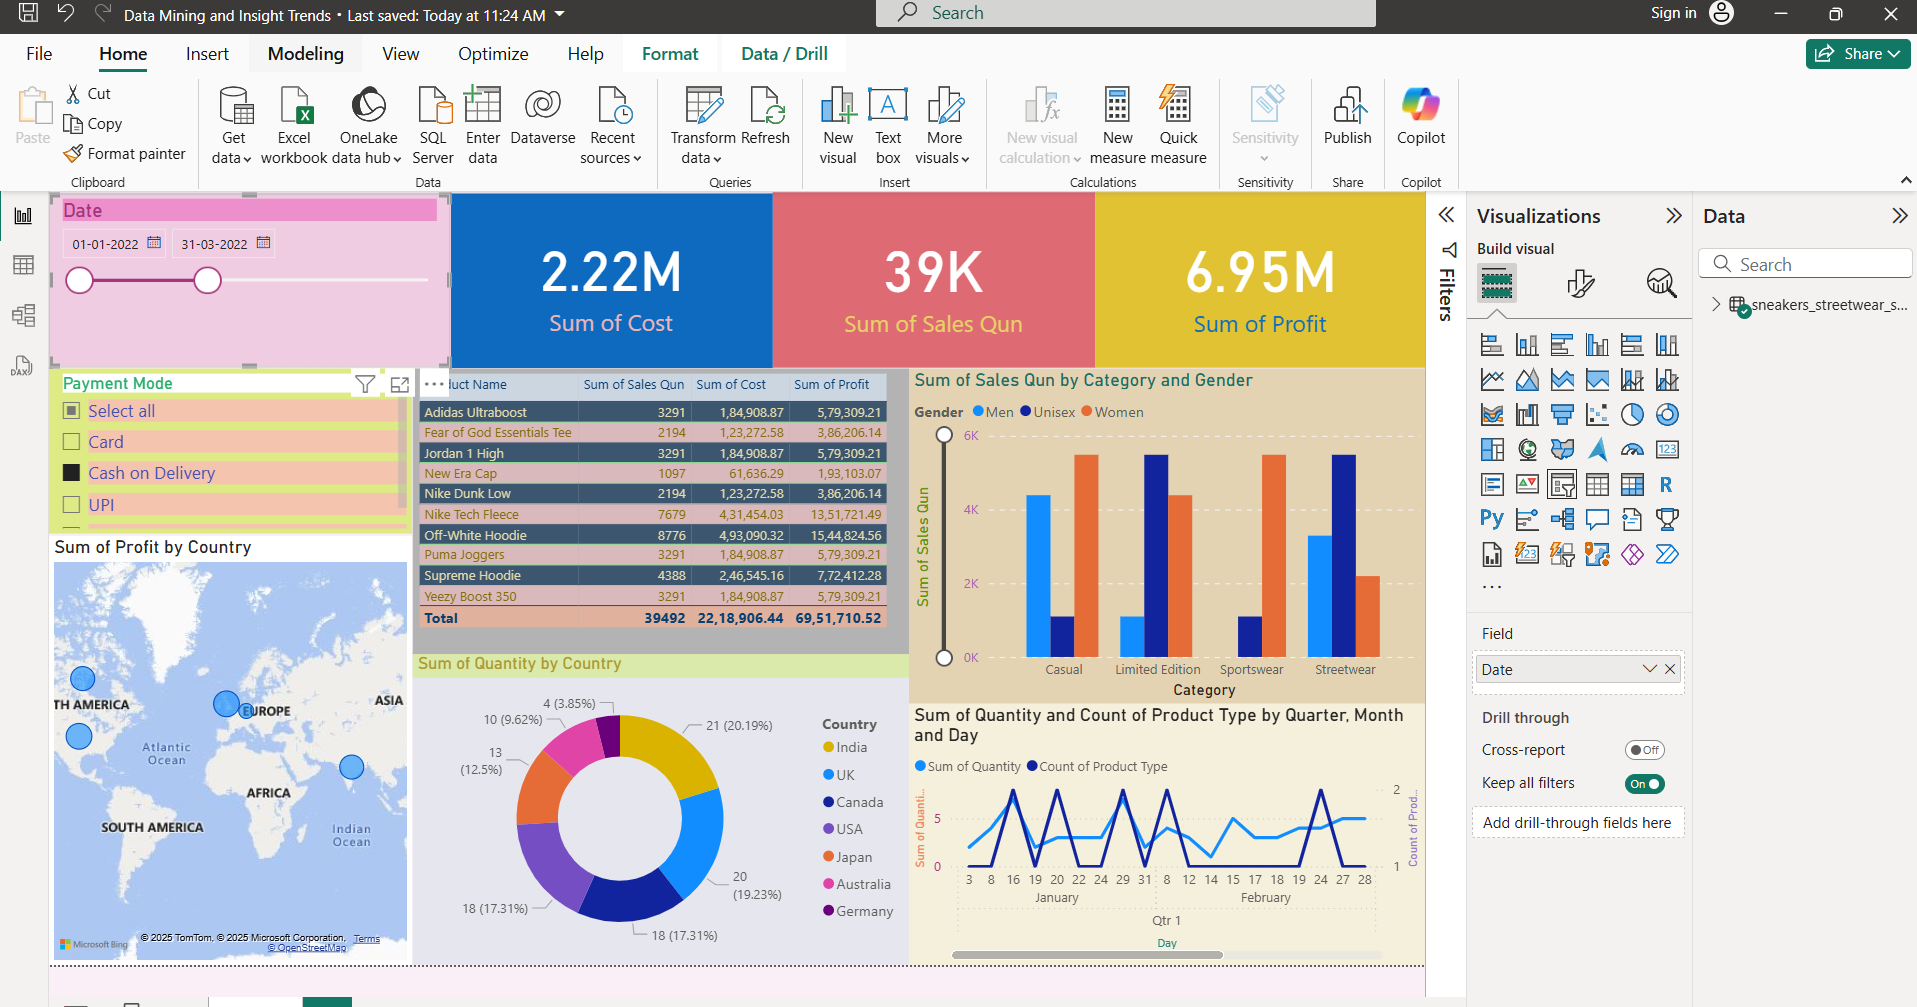

The dashboard page shown, as its layout file describes it:
{"tool":"powerbi","page":{"name":"Page 1","canvas":[1280,720],"ordinal":0},"visuals":[{"type":"card","fields":{"Values":["Sum(sneakers_streetwear_sales_data.Sum of Sales Quantity)"]},"box":[673.3,1.2,299.8,163.4],"z":0},{"type":"card","fields":{"Values":["Sum(sneakers_streetwear_sales_data.Sum of Cost Unit Price)"]},"box":[373.5,2.5,299.8,162.2],"z":1000},{"type":"card","fields":{"Values":["Sum(sneakers_streetwear_sales_data.Sum of Profit Amount)"]},"box":[973.1,1.2,307.2,163.4],"z":2000},{"type":"clusteredColumnChart","fields":{"Category":["sneakers_streetwear_sales_data.Category","sneakers_streetwear_sales_data.Date.Variation.Date Hierarchy.Year","sneakers_streetwear_sales_data.Date.Variation.Date Hierarchy.Quarter"],"Y":["Sum(sneakers_streetwear_sales_data.Sales Qun)"],"Series":["sneakers_streetwear_sales_data.Gender"]},"box":[800,165.1,480.2,311.6],"z":3000},{"type":"lineChart","fields":{"Category":["sneakers_streetwear_sales_data.Date.Variation.Date Hierarchy.Quarter","sneakers_streetwear_sales_data.Date.Variation.Date Hierarchy.Month","sneakers_streetwear_sales_data.Date.Variation.Date Hierarchy.Day"],"Y2":["CountNonNull(sneakers_streetwear_sales_data.Product Type)"],"Y":["Sum(sneakers_streetwear_sales_data.Quantity)"]},"box":[799.8,476.7,480.4,243.3],"z":4000},{"type":"donutChart","fields":{"Y":["Sum(sneakers_streetwear_sales_data.Quantity)"],"Category":["sneakers_streetwear_sales_data.Country"]},"box":[337.9,430,462,290],"z":5000},{"type":"tableEx","fields":{"Values":["sneakers_streetwear_sales_data.Product Name","Sum(sneakers_streetwear_sales_data.Sales Quantity)","Sum(sneakers_streetwear_sales_data.Cost Unit Price)","Sum(sneakers_streetwear_sales_data.Profit Amount)"]},"box":[337.9,164.6,462,265.4],"z":6000},{"type":"map","fields":{"Category":["sneakers_streetwear_sales_data.Country"],"Size":["Sum(sneakers_streetwear_sales_data.Profit)"]},"box":[0,320.7,337.9,399.3],"z":7000},{"type":"slicer","fields":{"Values":["sneakers_streetwear_sales_data.Payment Mode"]},"box":[0,164.6,337.9,153.6],"z":8000},{"type":"slicer","fields":{"Values":["sneakers_streetwear_sales_data.Date"]},"box":[0,2.5,373.5,161],"z":9000}]}

Visuals, with their boxes on the page's 1280x720 design canvas (x1, y1, x2, y2). These are canvas units, not pixel positions in the 1917x1007 screenshot, which may show the page scaled, cropped or inside an application window:
card - Sum(sneakers_streetwear_sales_data.Sum of Sales Quantity): bbox=(673, 1, 973, 165)
card - Sum(sneakers_streetwear_sales_data.Sum of Cost Unit Price): bbox=(374, 2, 673, 165)
card - Sum(sneakers_streetwear_sales_data.Sum of Profit Amount): bbox=(973, 1, 1280, 165)
clusteredColumnChart - sneakers_streetwear_sales_data.Category x sneakers_streetwear_sales_data.Date.Variation.Date Hierarchy.Year: bbox=(800, 165, 1280, 477)
lineChart - sneakers_streetwear_sales_data.Date.Variation.Date Hierarchy.Quarter x sneakers_streetwear_sales_data.Date.Variation.Date Hierarchy.Month: bbox=(800, 477, 1280, 720)
donutChart - Sum(sneakers_streetwear_sales_data.Quantity) x sneakers_streetwear_sales_data.Country: bbox=(338, 430, 800, 720)
tableEx - sneakers_streetwear_sales_data.Product Name x Sum(sneakers_streetwear_sales_data.Sales Quantity): bbox=(338, 165, 800, 430)
map - sneakers_streetwear_sales_data.Country x Sum(sneakers_streetwear_sales_data.Profit): bbox=(0, 321, 338, 720)
slicer - sneakers_streetwear_sales_data.Payment Mode: bbox=(0, 165, 338, 318)
slicer - sneakers_streetwear_sales_data.Date: bbox=(0, 2, 374, 164)
